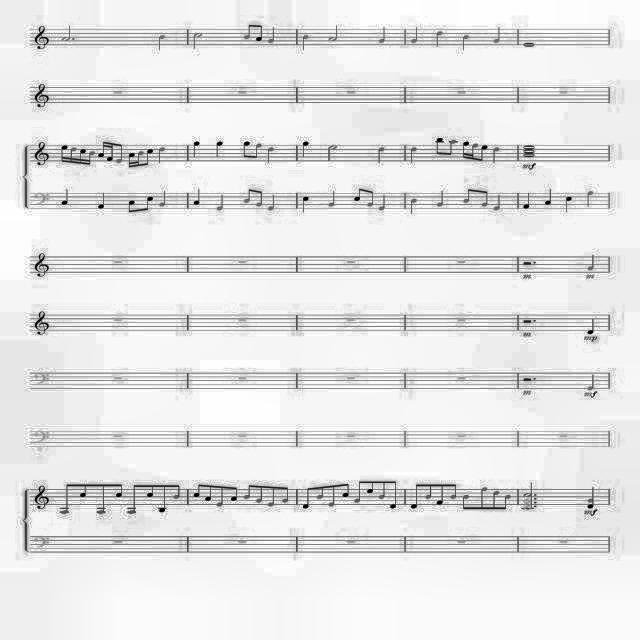Bass-clef: (27, 364, 54, 398), (27, 184, 47, 212), (32, 426, 52, 446), (30, 538, 50, 558)
Eighth-note: (92, 482, 108, 514), (154, 484, 170, 514), (238, 17, 254, 45), (58, 480, 70, 514), (127, 476, 137, 516), (350, 480, 362, 510), (213, 486, 227, 510), (225, 484, 239, 508), (313, 482, 327, 506), (248, 482, 264, 502), (390, 480, 400, 512), (411, 480, 421, 512), (460, 181, 472, 207), (431, 482, 444, 506), (362, 481, 376, 502), (138, 144, 150, 168), (351, 180, 362, 206), (446, 132, 456, 160), (249, 137, 261, 159), (267, 485, 277, 511), (327, 484, 337, 510), (361, 184, 372, 206), (475, 184, 485, 208), (431, 134, 444, 152), (470, 139, 478, 167), (113, 480, 127, 496), (477, 486, 487, 508), (242, 183, 252, 205), (193, 482, 203, 504), (302, 487, 312, 509), (422, 481, 434, 499), (378, 482, 388, 502), (463, 490, 473, 510), (142, 484, 156, 498), (256, 18, 264, 42), (74, 484, 90, 496), (206, 482, 214, 506), (240, 134, 248, 156), (118, 143, 124, 171), (174, 478, 182, 499), (126, 194, 134, 214), (282, 486, 290, 506), (252, 187, 260, 205), (240, 483, 248, 501), (446, 484, 454, 501), (492, 490, 500, 506), (144, 194, 152, 210), (481, 136, 485, 164), (340, 486, 348, 500), (138, 144, 142, 168), (504, 491, 508, 514), (112, 142, 116, 164)
Full-note: (518, 32, 538, 52)
Full-rest: (336, 528, 379, 556), (100, 308, 132, 338), (108, 419, 140, 449), (105, 366, 139, 394), (228, 300, 256, 332), (338, 244, 362, 280), (102, 250, 130, 280), (230, 247, 254, 280), (559, 427, 585, 455), (340, 365, 360, 399), (340, 76, 364, 104), (451, 77, 474, 105), (552, 530, 580, 550), (97, 534, 131, 550), (233, 360, 251, 390), (340, 297, 356, 329), (456, 251, 472, 281), (452, 528, 472, 552), (452, 311, 472, 334), (230, 79, 250, 101), (444, 363, 468, 381), (552, 85, 574, 103), (448, 424, 472, 440), (108, 83, 128, 101), (229, 426, 251, 442), (230, 532, 250, 548), (337, 424, 355, 440)
Half-note: (321, 130, 341, 176), (326, 18, 344, 54), (58, 20, 74, 48), (520, 484, 532, 512), (194, 32, 210, 52)
Half-rest: (522, 368, 534, 388), (524, 314, 532, 326), (524, 255, 530, 269)
Quarter-note: (454, 28, 471, 62), (372, 18, 388, 54), (184, 186, 203, 212), (262, 138, 278, 168), (583, 312, 601, 338), (373, 144, 391, 168), (430, 187, 448, 211), (153, 185, 167, 215), (209, 183, 221, 217), (151, 32, 169, 54), (427, 26, 445, 48), (584, 481, 596, 512), (490, 140, 506, 163), (321, 184, 334, 212), (298, 21, 310, 51), (264, 26, 282, 46), (264, 188, 276, 218), (537, 188, 555, 208), (583, 370, 601, 390), (584, 249, 600, 271), (488, 22, 500, 50), (558, 190, 574, 210), (59, 185, 72, 208), (98, 190, 109, 216), (187, 136, 201, 156), (211, 140, 225, 160), (377, 189, 387, 217), (298, 190, 310, 212), (493, 190, 503, 216), (406, 30, 422, 46), (580, 183, 592, 204), (407, 192, 417, 216), (519, 188, 529, 212), (408, 137, 416, 165), (154, 144, 166, 162), (300, 134, 308, 160)
Sixteenth-note: (69, 140, 83, 163), (59, 143, 70, 165), (124, 152, 136, 168), (100, 136, 108, 158), (89, 146, 95, 174), (463, 143, 471, 161)
Treble-clef: (34, 128, 52, 170), (32, 19, 52, 56), (28, 305, 52, 335), (32, 484, 52, 514), (33, 242, 47, 280), (37, 77, 49, 111)
